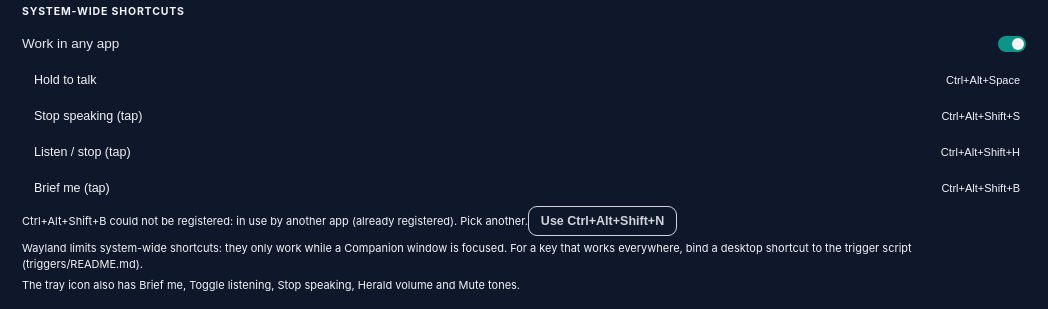
Test: NativeHeraldSettings › desktop: shortcut rows, conflicts and the Wayland note
This screenshot has width=1048, height=309.
Expected: the menu item "Hold to talk Ctrl+Alt+Space" is shown, [12,62,1036,98]
Expected: the text "Ctrl+Alt+Space" is shown, [940,73,1026,87]
Note: One click moves it to a free alternative.
Click the button "Use Ctrl+Alt+Shift+N" at {"x": 603, "y": 221}, box [528,206,677,236]
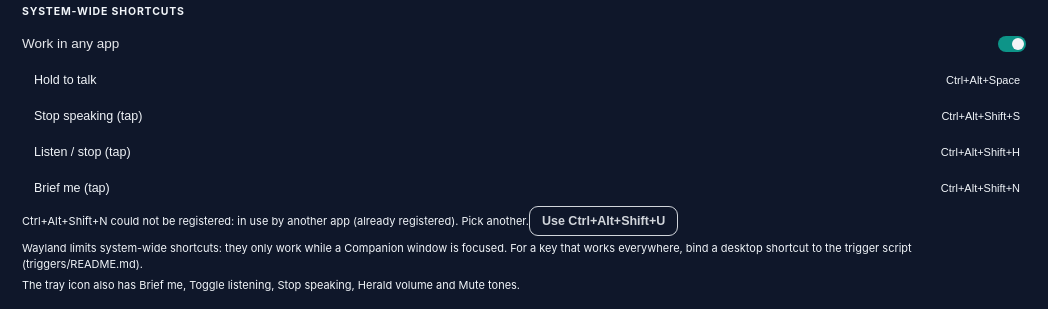
Expected: the text "Wayland limits system-wide shortcuts" is shown, [22,241,912,271]
Result: the text "Ctrl+Alt+Shift+N" is shown at [935,181,1026,195]
